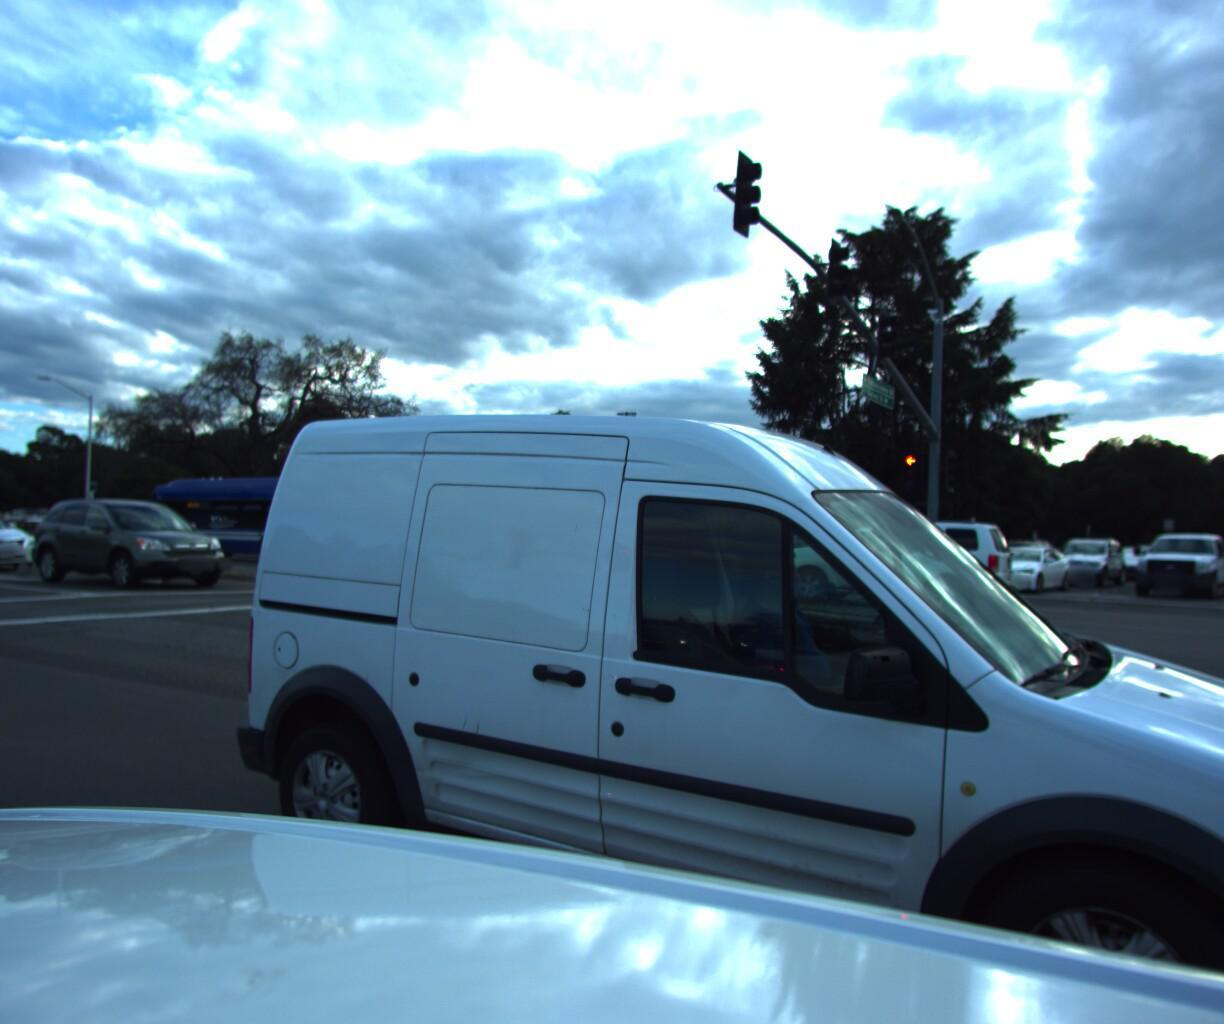bus: (139, 464, 559, 578)
car: (175, 305, 1224, 1024), (756, 516, 1019, 618), (15, 491, 239, 588), (1121, 522, 1224, 597), (962, 536, 1076, 590), (1038, 533, 1130, 583), (0, 498, 48, 567), (1095, 539, 1175, 576), (1173, 541, 1224, 581), (1206, 539, 1224, 582)
